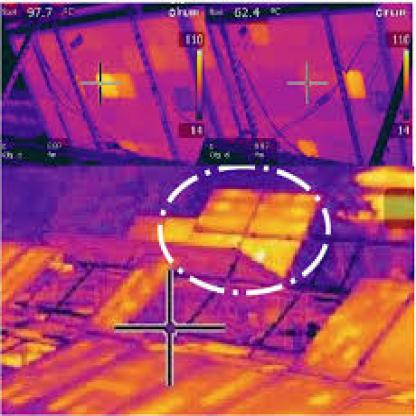Defects: (344, 72, 369, 106), (96, 74, 117, 100), (300, 134, 318, 159)
